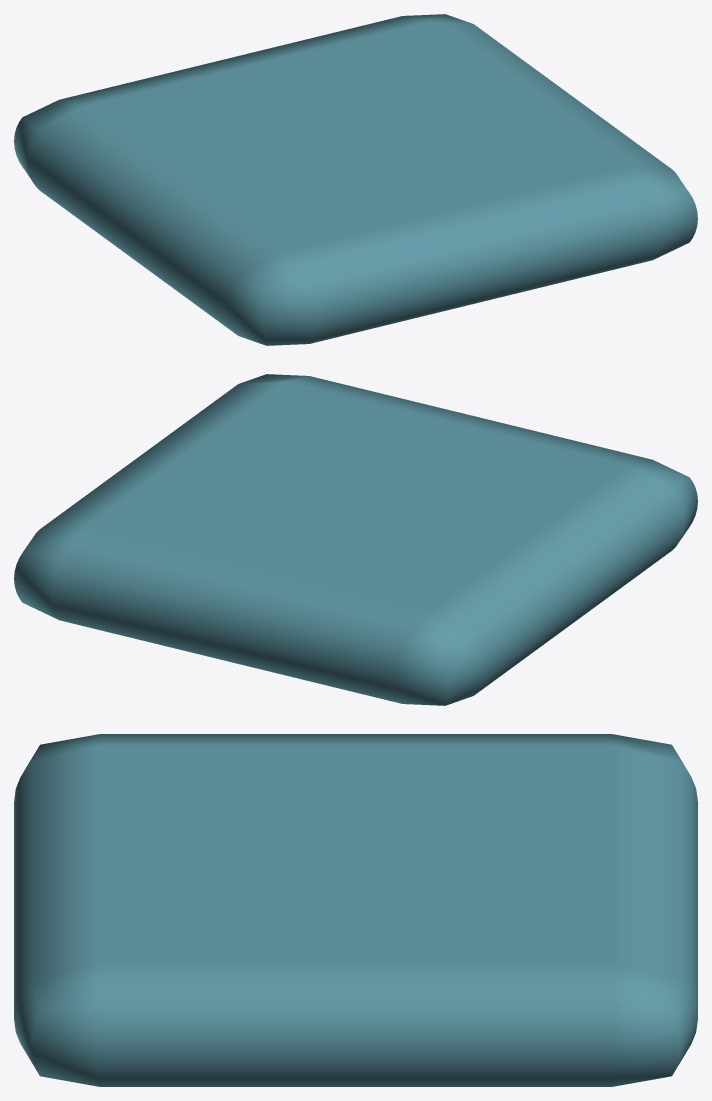
Rendered from water.glb.
3 renders of one model, top to bottom at view 1: azimuth 30°, elevation 25°; view 2: azimuth 150°, elevation 25°; view 3: azimuth 270°, elevation 25°, orthographic. The views are drawn at different scales.
Visible parts, largest first — view 1: water; view 2: water; view 3: water.
Part boxes in pixels (x1=…): water: x1=14, y1=14, x2=697, y2=345; water: x1=14, y1=374, x2=697, y2=705; water: x1=14, y1=734, x2=697, y2=1086.
Size of the model in its own units: 1 by 0.18 by 1.
